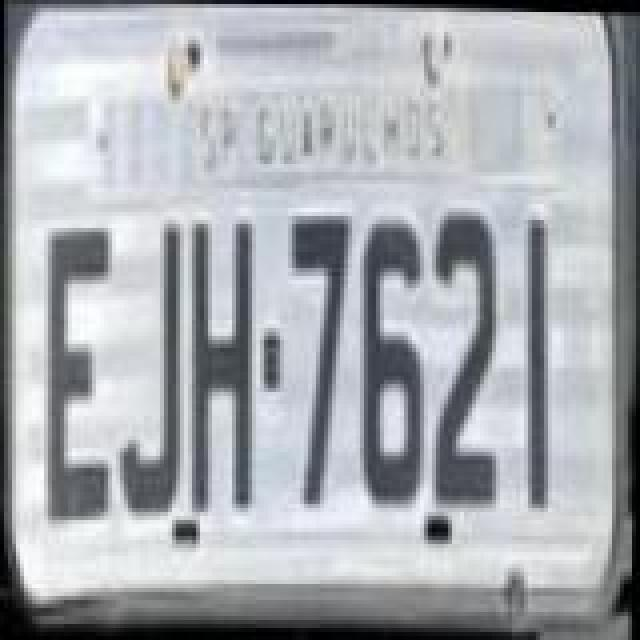1: (524, 210, 560, 514)
2: (428, 208, 504, 512)
6: (356, 212, 432, 504)
7: (286, 212, 358, 508)
E: (40, 218, 116, 526)
H: (186, 210, 258, 518)
J: (112, 216, 188, 520)
